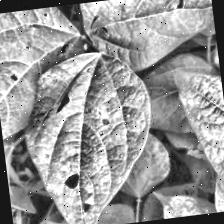ALS: (25, 55, 143, 224), (0, 4, 85, 149), (80, 0, 219, 80)
